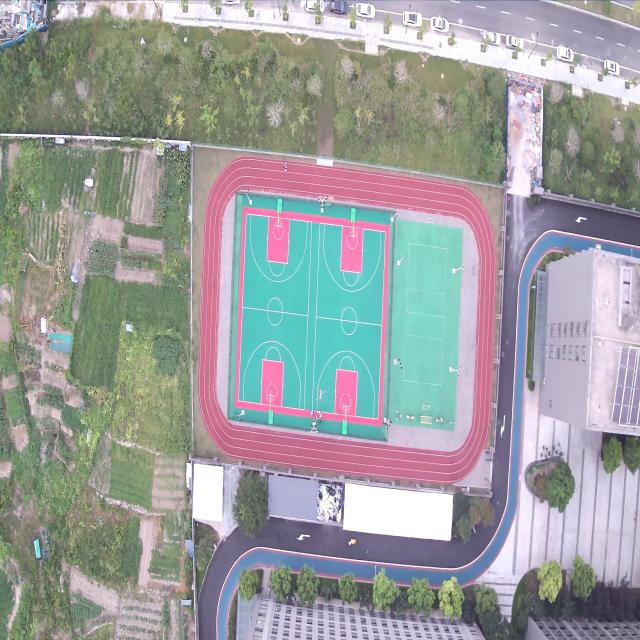drone: (316, 388, 326, 402)
